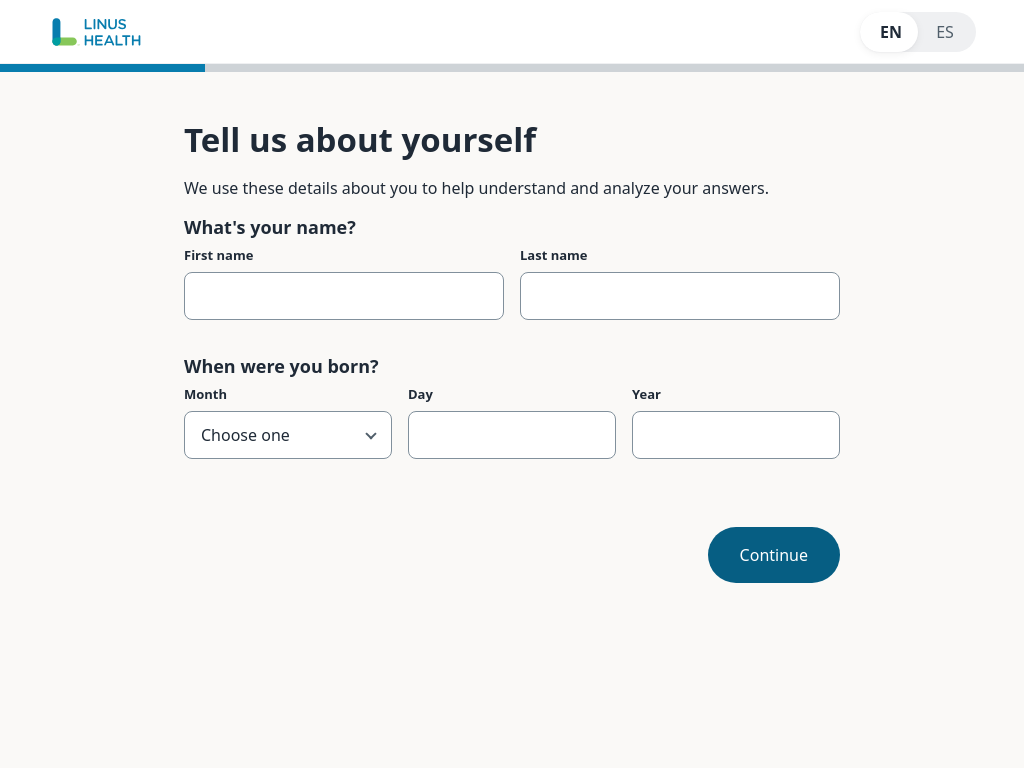
it: OnboardingPage › clears the Month error once one is selected
Click the button "Continue".
click(774, 555)  # box [708,527,840,583]
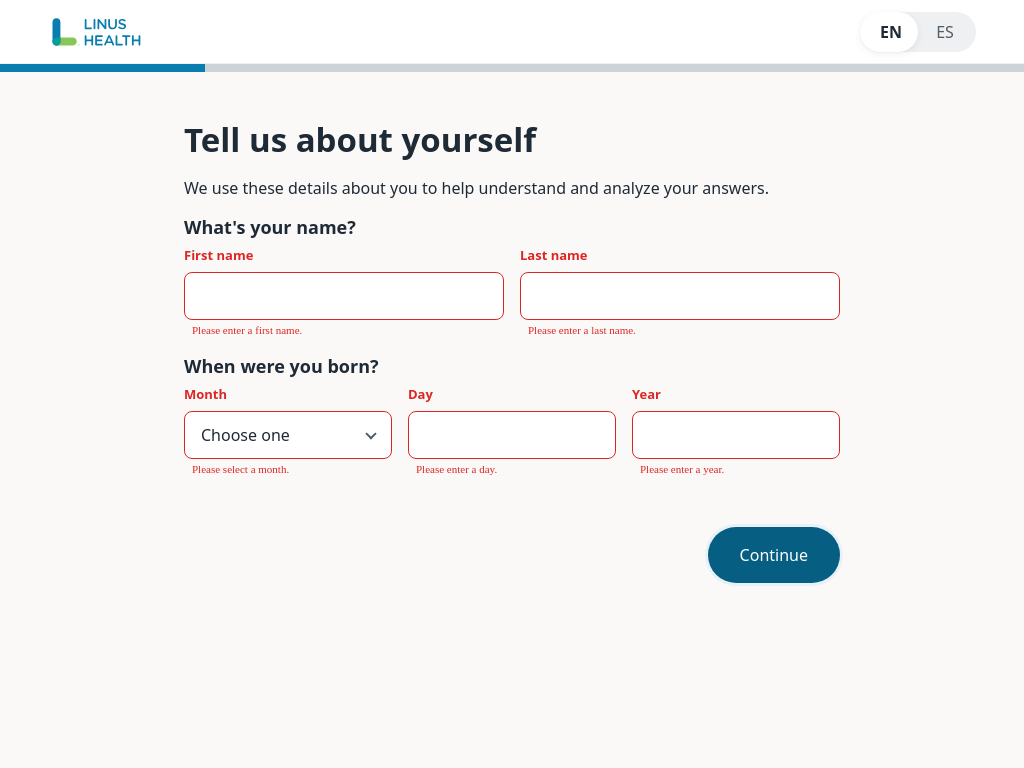
expect the text "Please select a month." is shown: met, box [192,463,289,475]
Select "January" in the dropdown labelled "Month" at (288, 435), box [185,412,391,458]
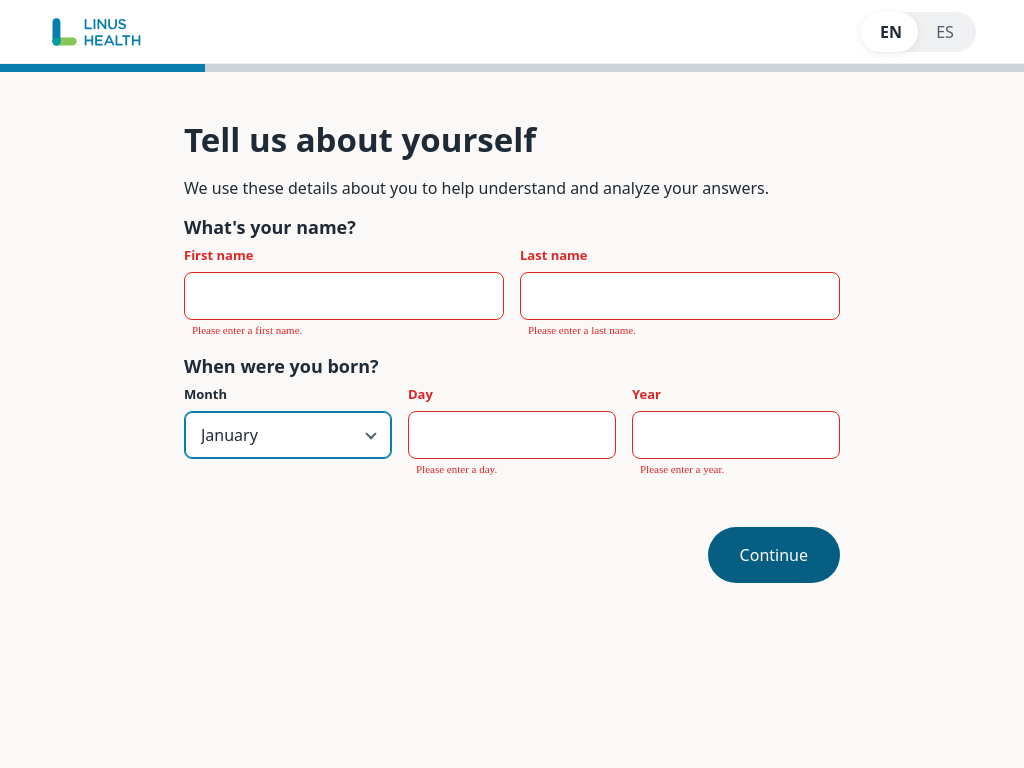
expect the text "Please select a month." is gone: met
